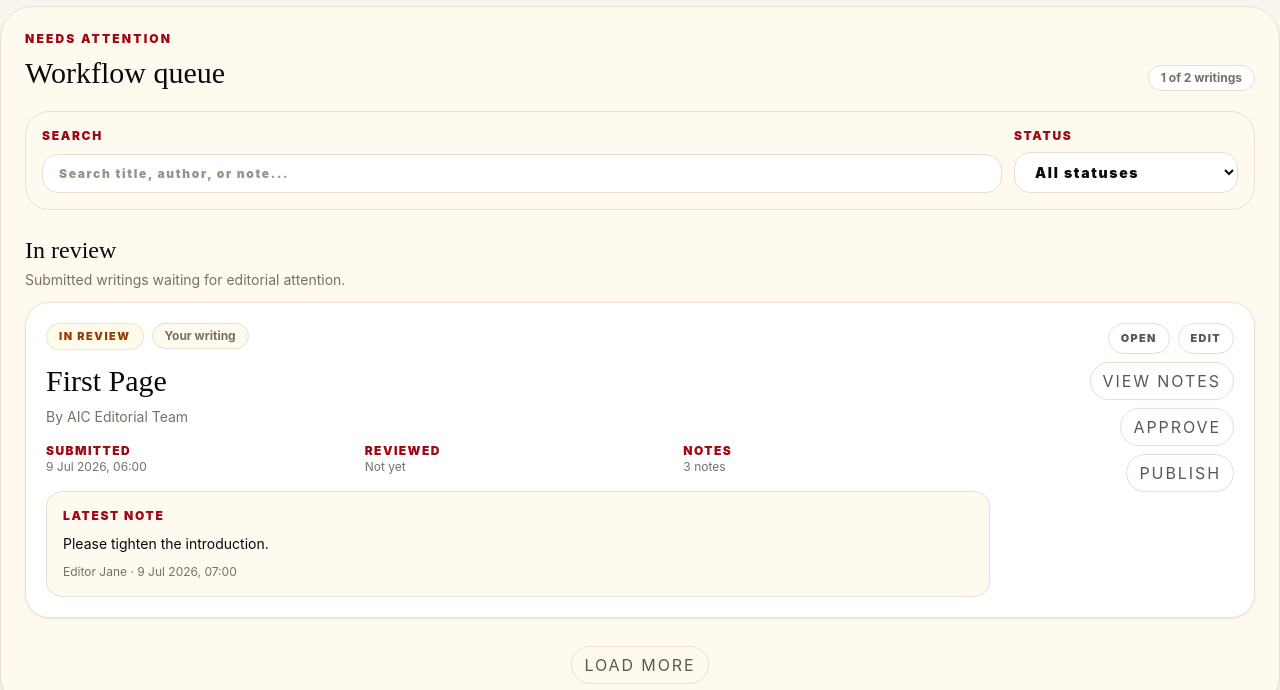
Test: WritingEditorialPage › resets to page 1 when filters change
(page scrolled)
Click the button "Load more".
click(640, 665)  # box [571, 646, 709, 684]
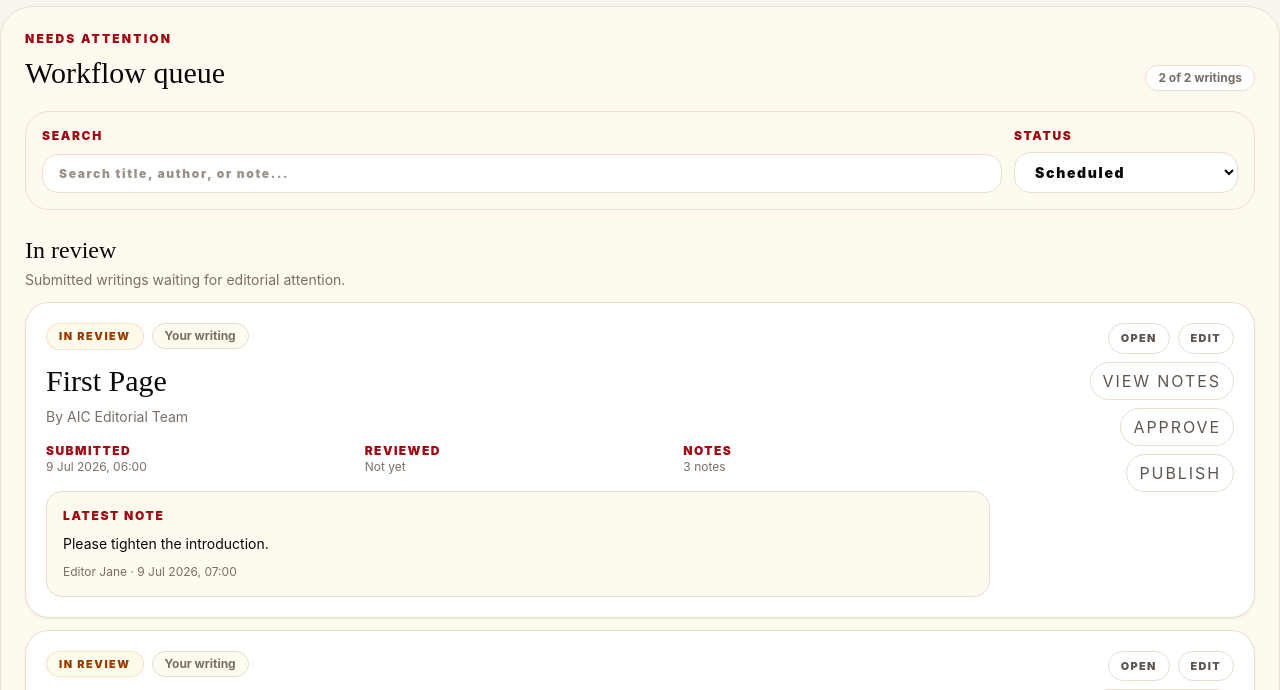
Select "Scheduled" in the dropdown with id "editorial-status-filter" at [1126, 173], box [1014, 152, 1238, 193]
Select "Scheduled" in the dropdown with id "editorial-status-filter" at [1126, 173], box [1014, 152, 1238, 193]
(page scrolled)
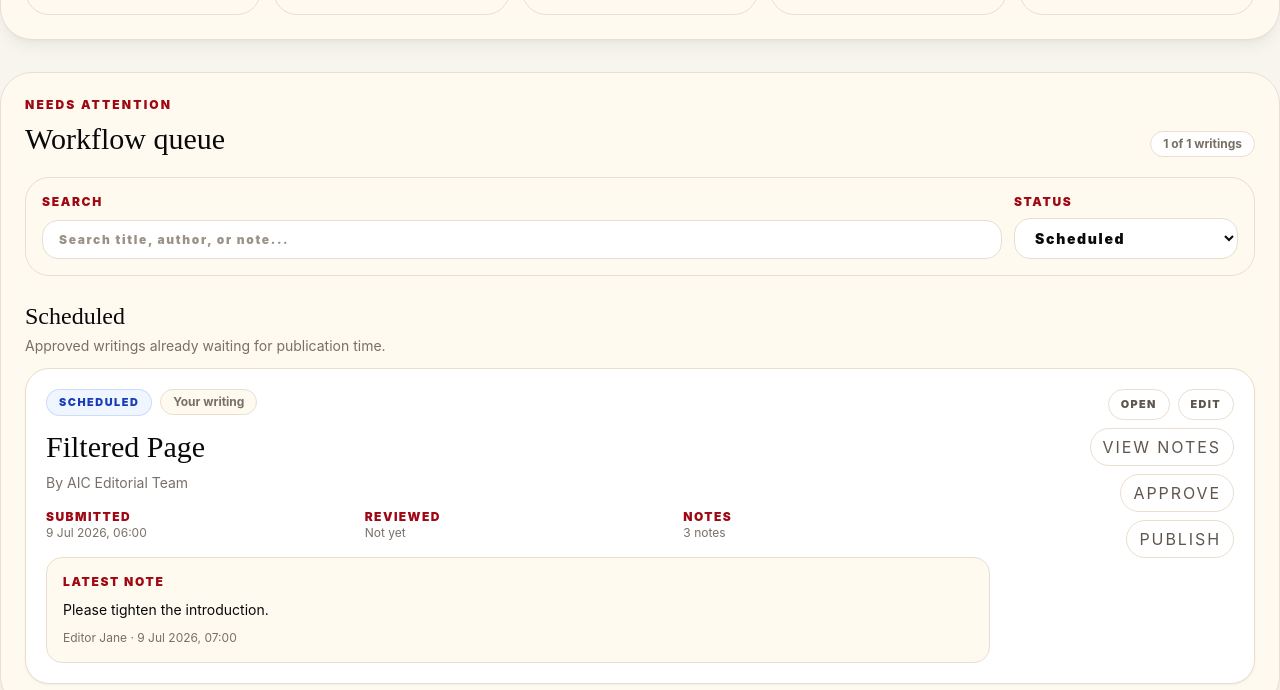
Check: the text "Filtered Page" is shown, box [46, 430, 205, 463]
Check: the text "First Page" is gone
